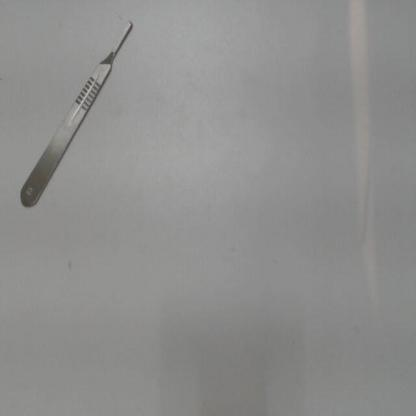No.4 BP Handle: (16, 17, 140, 212)
